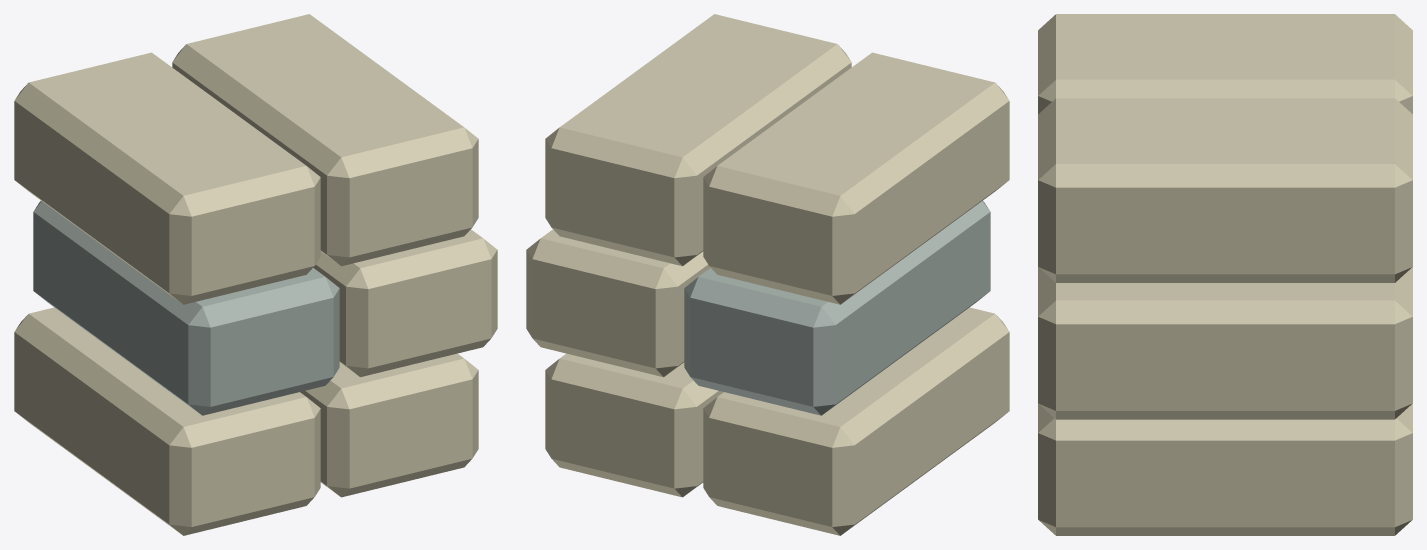
Rendered from foundation.glb.
3 views of the same model, side by side, from view 1: azimuth 30°, elevation 25°; view 2: azimuth 150°, elevation 25°; view 3: azimuth 270°, elevation 25° (orthographic). The views are drawn at different scales.
Visible parts, largest first — view 1: foundation; view 2: foundation; view 3: foundation.
Part boxes in pixels (x1,y1,x2,y2): foundation: (14,14,497,535); foundation: (526,14,1009,535); foundation: (1038,14,1412,535).
Bounding box in the file's own units: 1.04 × 1.03 × 0.94.
